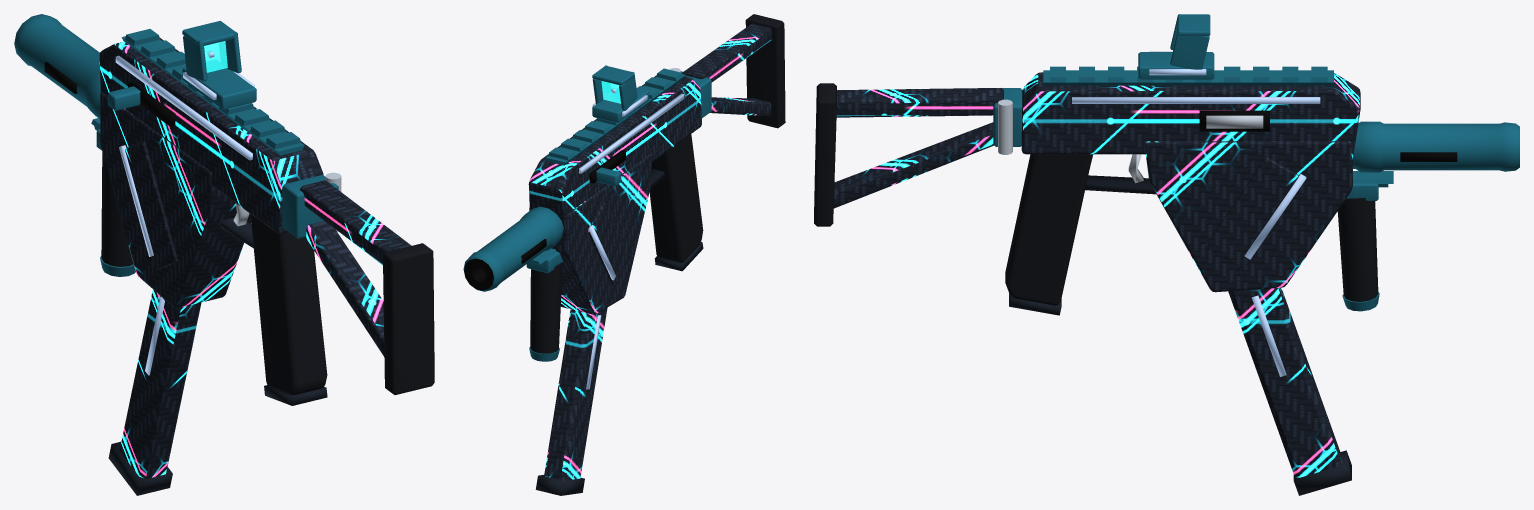
File: weapon_vector_9.glb
3 views of the same model, side by side, from view 1: azimuth 30°, elevation 25°; view 2: azimuth 150°, elevation 25°; view 3: azimuth 270°, elevation 25° (orthographic). The views are drawn at different scales.
Parts seen in each view (by area): view 1: Vector9; view 2: Vector9; view 3: Vector9.
Part boxes in pixels (x1,y1,x2,y2): Vector9: (14,14,434,495); Vector9: (463,14,785,495); Vector9: (814,14,1519,495).
Size of the model in its own units: 0.0662 by 0.3791 by 0.52.
8 materials, 1 textured.
